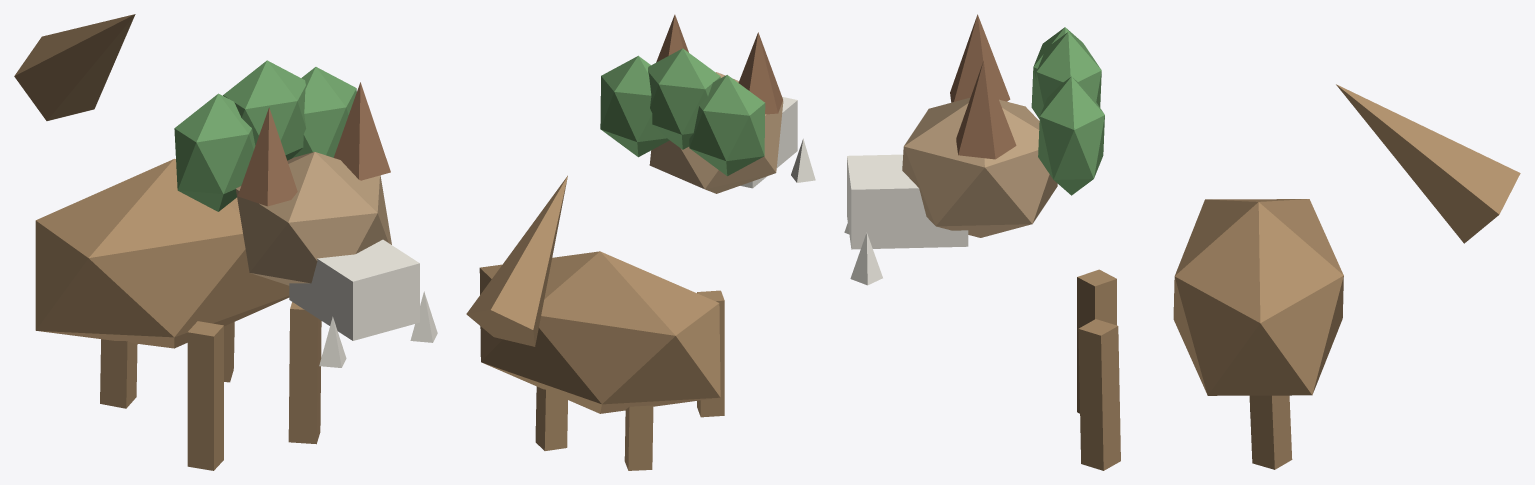
File: npcpose_wolf_idle_00.glb
3 views of the same model, side by side, from view 1: azimuth 30°, elevation 25°; view 2: azimuth 150°, elevation 25°; view 3: azimuth 270°, elevation 25° (orthographic). The views are drawn at different scales.
Parts seen in each view (by area): view 1: npcpose; view 2: npcpose; view 3: npcpose.
Boxes of the visible parts, x1,y1,x2,y2 form: npcpose: (14,14,437,470); npcpose: (466,14,815,470); npcpose: (844,14,1520,470).
Size of the model in its own units: 0.8872 by 1.22 by 1.85.
